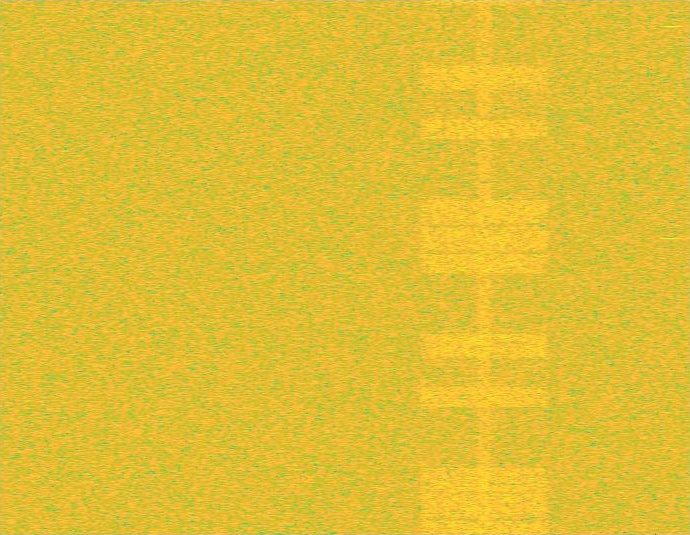DSSS: (475, 0, 494, 534)
LTE: (415, 0, 553, 534)
Radar: (664, 0, 678, 534)
